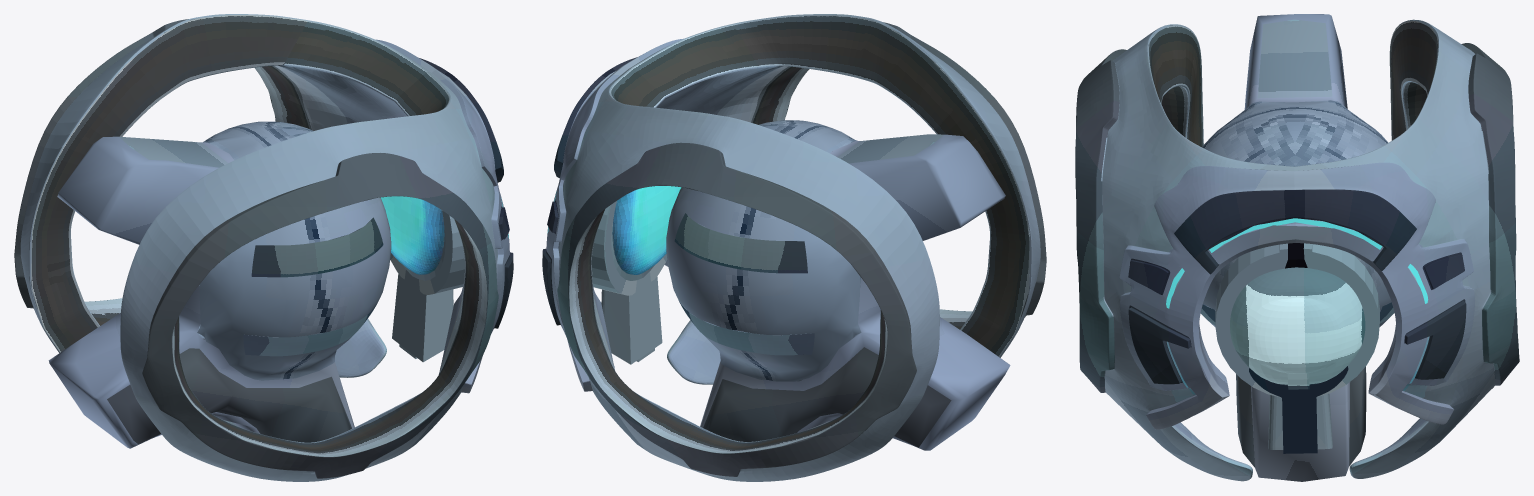
The model's file is spark_drone.glb.
3 renders of one model, left to right at view 1: azimuth 30°, elevation 25°; view 2: azimuth 150°, elevation 25°; view 3: azimuth 270°, elevation 25°, orthographic. The views are drawn at different scales.
Parts seen in each view (by area): view 1: OuterShell_Plane.000_OuterShellMtrl_0, OuterShell.002_Plane.015_InnerRingsBig_0, InnerCore.002_Plane.019_InnerSphereMaterial_0, OuterShell.007_Plane.012_InnerRingsSmall_0, Eye_Plane.003_EyeMaterial_0, BackLED_Plane.002_InnerEyeMaterial_0; view 2: OuterShell_Plane.000_OuterShellMtrl_0, OuterShell.002_Plane.015_InnerRingsBig_0, InnerCore.002_Plane.019_InnerSphereMaterial_0, Eye_Plane.003_EyeMaterial_0, BackLED_Plane.002_InnerEyeMaterial_0; view 3: OuterShell_Plane.000_OuterShellMtrl_0, Eye_Plane.003_EyeMaterial_0, InnerCore.002_Plane.019_InnerSphereMaterial_0, OuterShell.002_Plane.015_InnerRingsBig_0, OuterShell.007_Plane.012_InnerRingsSmall_0, BackLED_Plane.002_InnerEyeMaterial_0.
Boxes of the visible parts, <box> form: OuterShell_Plane.000_OuterShellMtrl_0: <box>14,14,513,481</box>; OuterShell.002_Plane.015_InnerRingsBig_0: <box>31,21,487,456</box>; InnerCore.002_Plane.019_InnerSphereMaterial_0: <box>197,121,391,380</box>; OuterShell.007_Plane.012_InnerRingsSmall_0: <box>31,15,307,352</box>; Eye_Plane.003_EyeMaterial_0: <box>243,217,383,356</box>; BackLED_Plane.002_InnerEyeMaterial_0: <box>381,196,508,274</box>; OuterShell_Plane.000_OuterShellMtrl_0: <box>542,14,1046,481</box>; OuterShell.002_Plane.015_InnerRingsBig_0: <box>569,15,1029,453</box>; InnerCore.002_Plane.019_InnerSphereMaterial_0: <box>666,120,861,381</box>; Eye_Plane.003_EyeMaterial_0: <box>674,213,860,355</box>; BackLED_Plane.002_InnerEyeMaterial_0: <box>547,186,681,274</box>; OuterShell_Plane.000_OuterShellMtrl_0: <box>1075,14,1519,481</box>; Eye_Plane.003_EyeMaterial_0: <box>1166,267,1429,389</box>; InnerCore.002_Plane.019_InnerSphereMaterial_0: <box>1202,100,1391,327</box>; OuterShell.002_Plane.015_InnerRingsBig_0: <box>1148,25,1517,364</box>; OuterShell.007_Plane.012_InnerRingsSmall_0: <box>1389,20,1438,140</box>; BackLED_Plane.002_InnerEyeMaterial_0: <box>1166,218,1428,308</box>.
Bounding box in the file's own units: 4.76 × 4.38 × 4.33.
7 materials, 7 textured.
